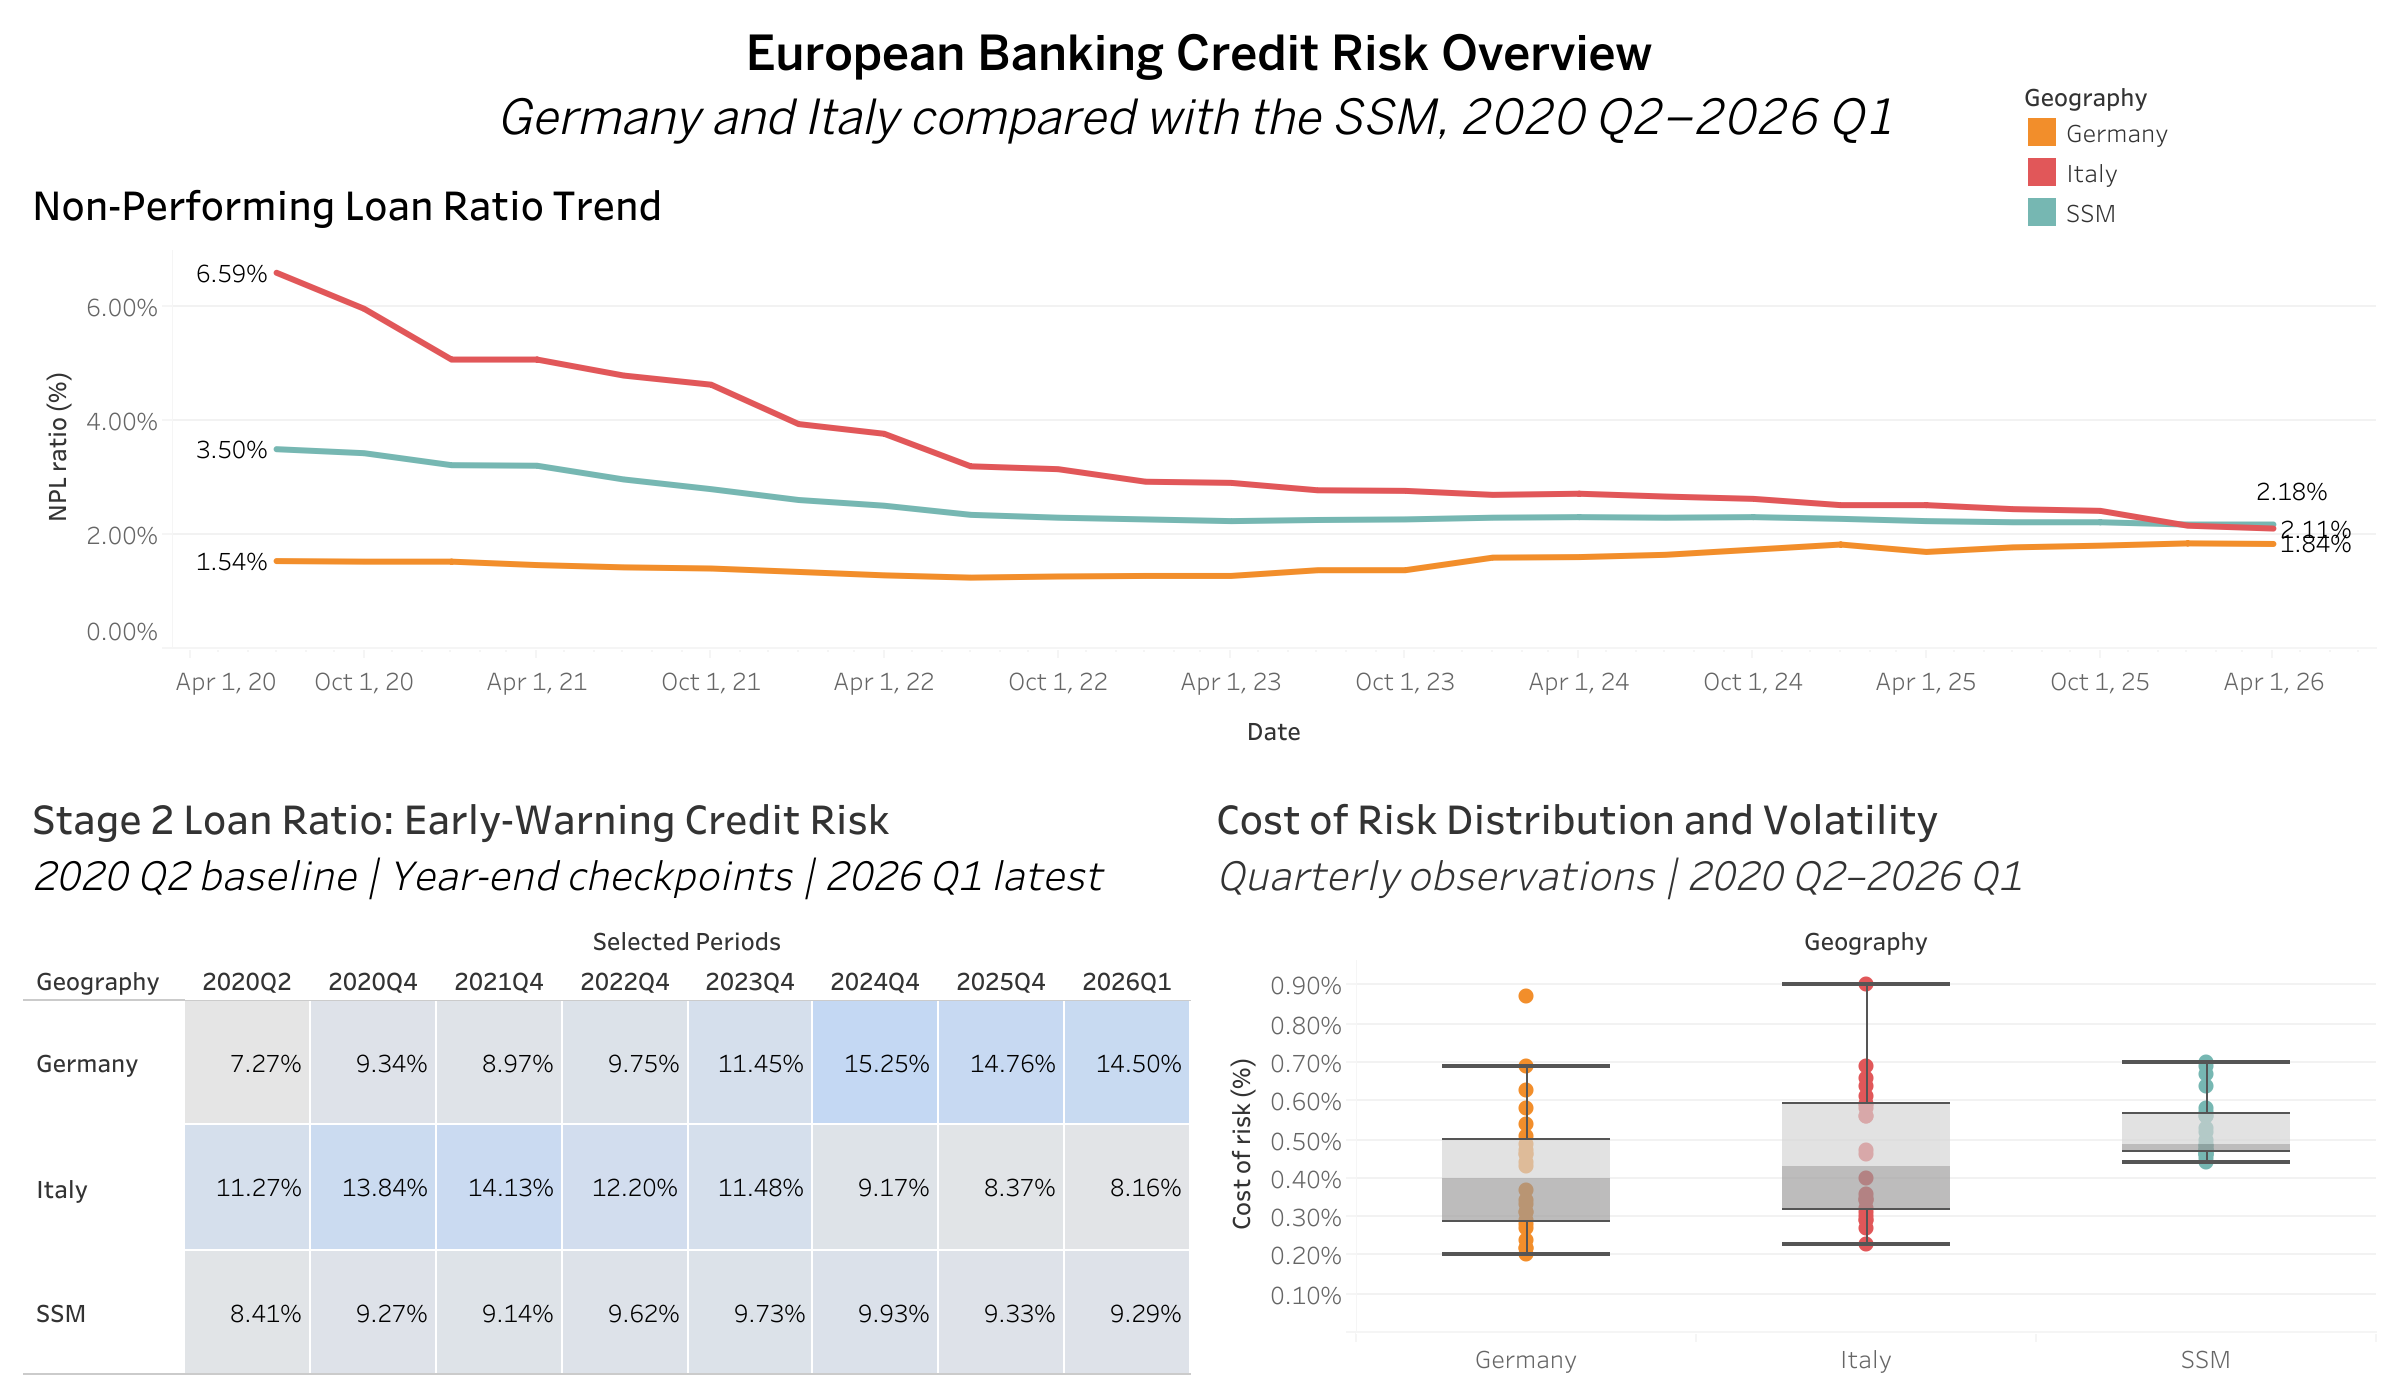

Layout of this report page (visuals, bound fields, positions):
{"tool":"tableau","page":{"name":"Credit Risk Overview","canvas":[1200,700],"ordinal":1},"visuals":[{"type":"title","box":[8,8,1184,68]},{"type":"legend","title":"NPL Trend","param":"[federated.1qrfjae0o8ywro1ekrkwl0wuycis].[none:Calculation_1448374641950722:nk]","box":[1007,33,160,86]},{"type":"worksheet","title":"NPL Trend","mark":"Automatic","rows":["Pivot Field Values"],"cols":["DATE"],"box":[8,76,1184,308]},{"type":"worksheet","title":"Stage 2 Loan Ratio ","mark":"Square","rows":["Calculation_1448374641950722"],"cols":["Calculation_1448374653050884"],"box":[8,384,592,308]},{"type":"worksheet","title":"Cost of Risk Distribution","mark":"Circle","rows":["Pivot Field Values"],"cols":["Calculation_1448374641950722"],"box":[600,384,592,308]}]}

Visuals, with their boxes in screenshot pixels (x1, y1, x2, y2), scaled from the page's 1200x700 canvas onto the 2398x1398 screenshot:
title: 16 16 2382 152
"NPL Trend" legend: 2012 66 2332 238
"NPL Trend" worksheet: 16 152 2382 767
"Stage 2 Loan Ratio " worksheet (Square marks): 16 767 1199 1382
"Cost of Risk Distribution" worksheet (Circle marks): 1199 767 2382 1382
